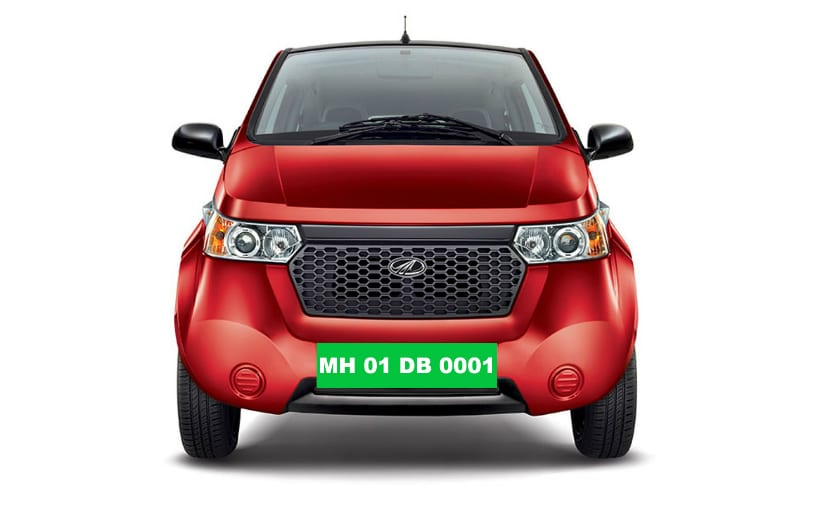number_plate: (314, 339, 505, 390)
